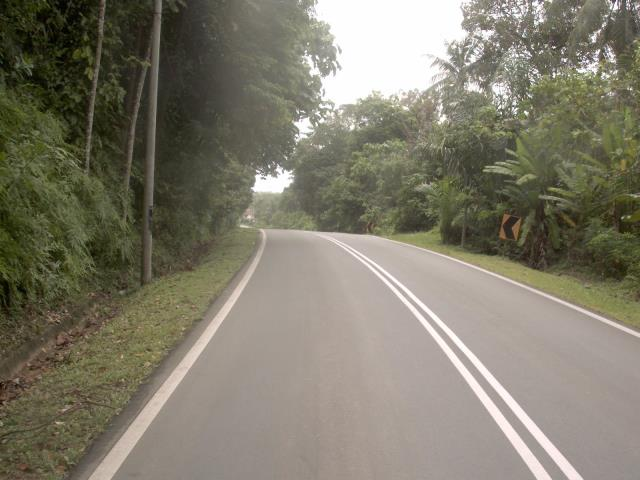traffic_sign: (494, 209, 527, 247)
